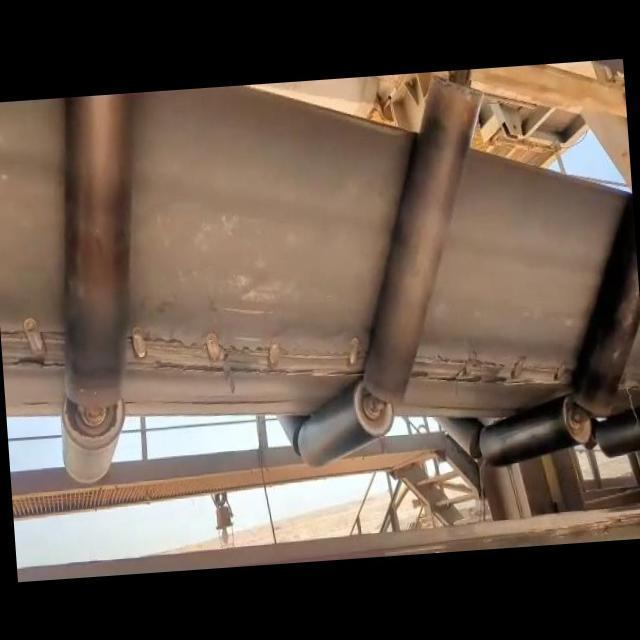Tear: (121, 316, 371, 392), (410, 335, 576, 402), (0, 322, 91, 376)
